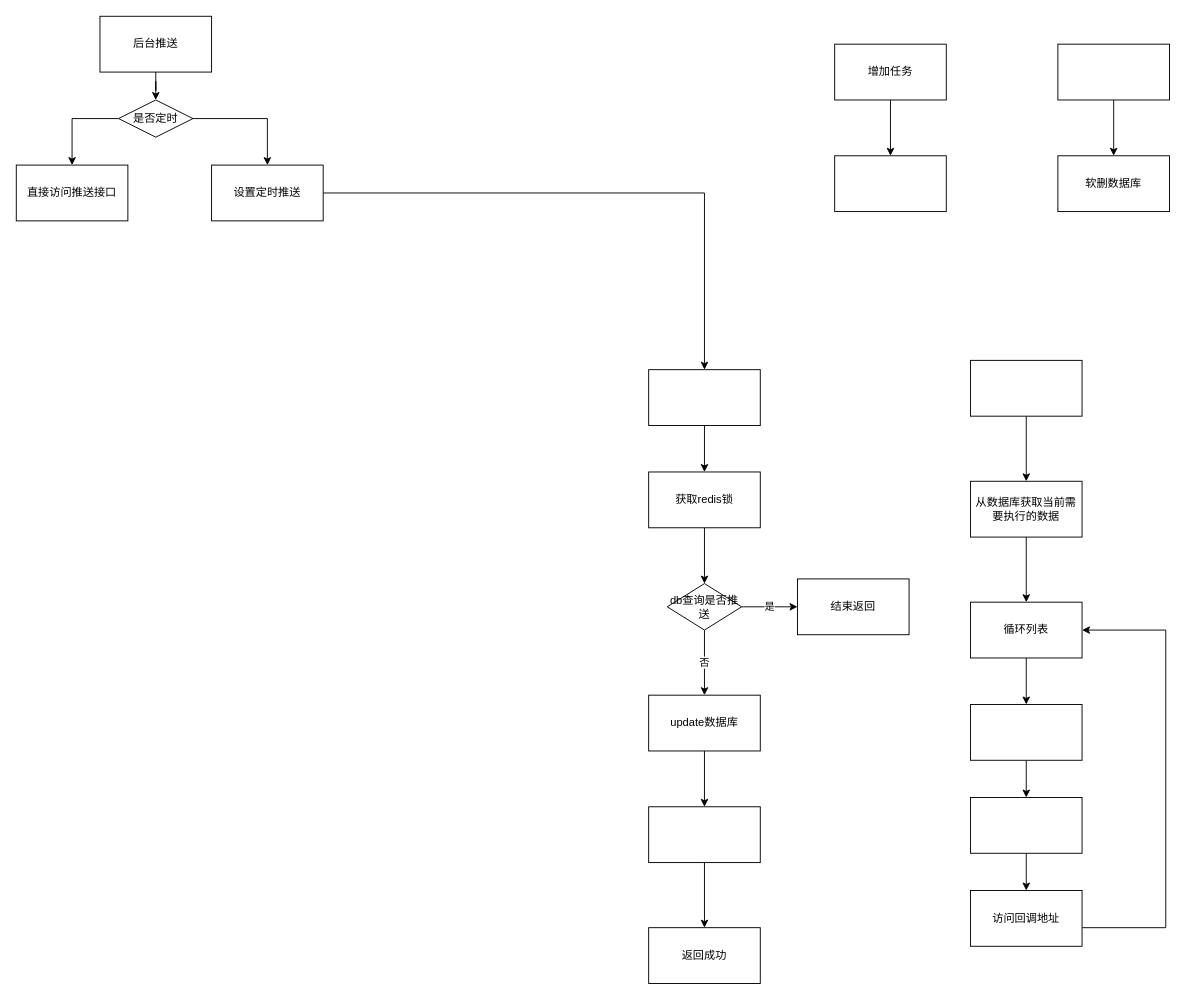
Image size: 1189x1000. Some labels were removed from this diagram. The centre of each missing label's shape, as x and y in pixels:
"修改任务" belongs at point 704,397.
"删除任务" belongs at point 1113,71.
"删除锁" belongs at point 704,834.
"发送" belongs at point 1026,825.
"存入数据库" belongs at point 890,183.
"定时任务" belongs at point 1026,387.
"根据id获取redis锁" belongs at point 1026,732.
